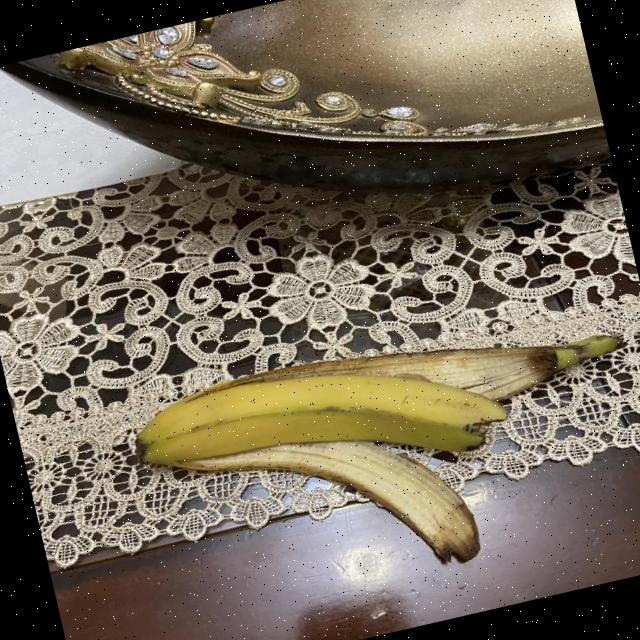banana-peel: (123, 288, 640, 628), (125, 321, 513, 525)
